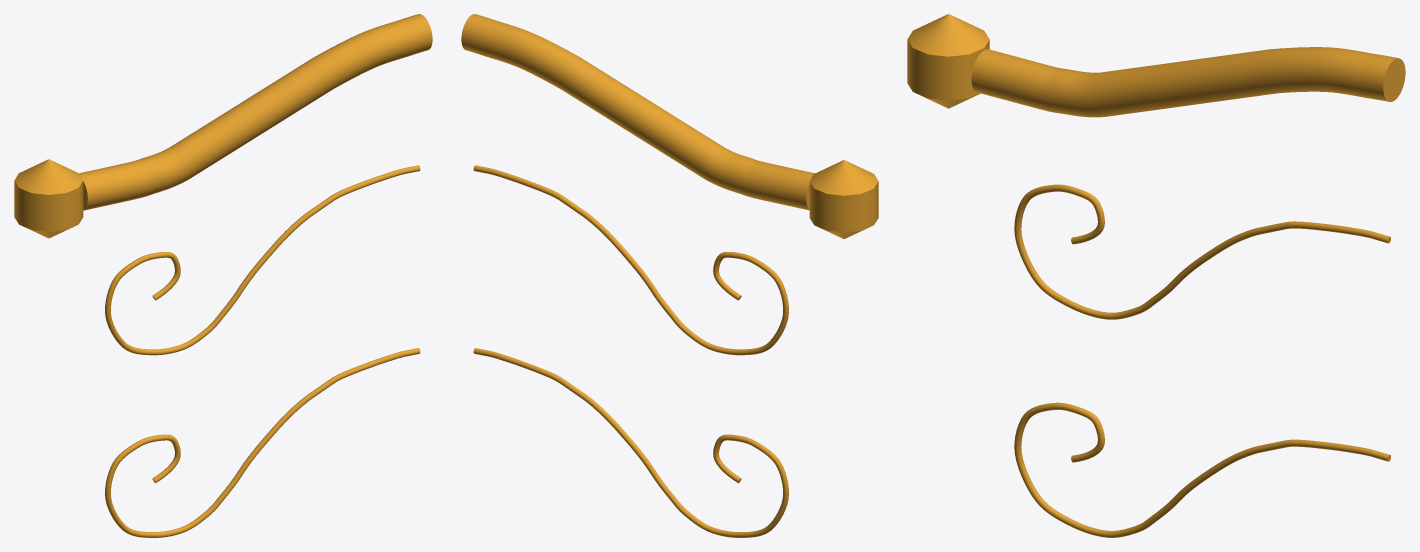
The model's file is halfGate.FBX.
The picture shows the model from 3 angles, left to right: view 1: azimuth 30°, elevation 25°; view 2: azimuth 150°, elevation 25°; view 3: azimuth 330°, elevation 25°; orthographic projection. The views are drawn at different scales.
Parts seen in each view (by area): view 1: Line020, Spindle001, Line022, Line021; view 2: Line020, Spindle001, Line022, Line021; view 3: Line020, Spindle001, Line022, Line021.
Boxes of the visible parts, left/top/right/bottom form: Line020: left=79, top=14, right=432, bottom=210; Spindle001: left=14, top=159, right=83, bottom=238; Line022: left=105, top=165, right=420, bottom=355; Line021: left=105, top=348, right=420, bottom=537; Line020: left=461, top=14, right=814, bottom=210; Spindle001: left=809, top=160, right=878, bottom=238; Line022: left=473, top=165, right=788, bottom=355; Line021: left=473, top=348, right=788, bottom=537; Line020: left=971, top=47, right=1405, bottom=117; Spindle001: left=907, top=14, right=989, bottom=108; Line022: left=1014, top=184, right=1390, bottom=319; Line021: left=1014, top=402, right=1390, bottom=537.
Size of the model in its own units: 9.45 by 10.26 by 1.4.
